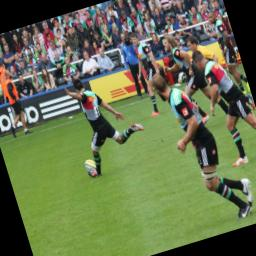football: (83, 157, 97, 172)
